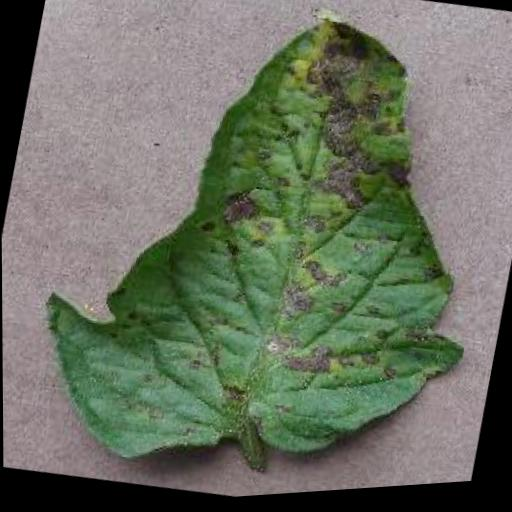Early Blight: (15, 0, 512, 511)
